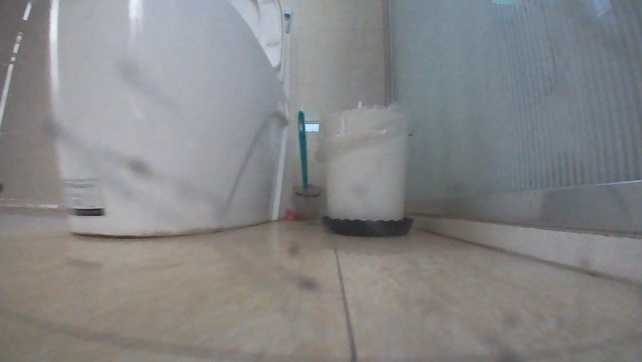toilet: (46, 0, 293, 235)
trash_can: (312, 104, 419, 235)
